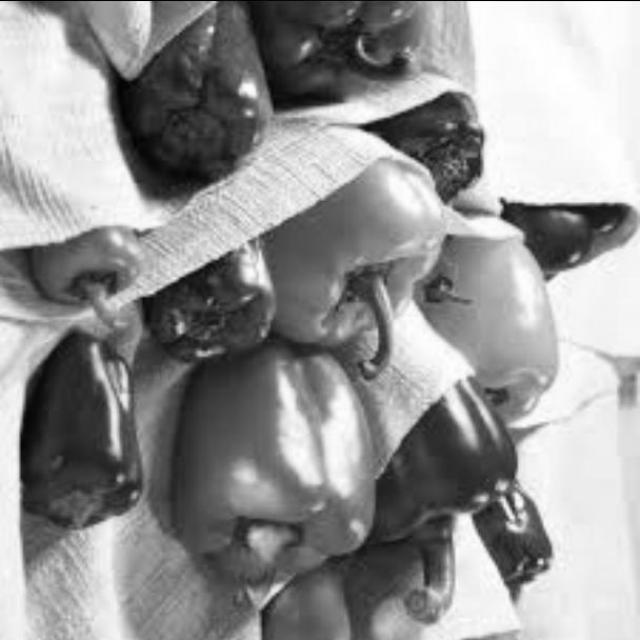ot chuong: (164, 330, 385, 598), (337, 373, 526, 593), (264, 133, 450, 351), (412, 212, 573, 430), (118, 0, 289, 187), (23, 329, 152, 526), (257, 0, 438, 118), (155, 216, 289, 359), (37, 204, 148, 341), (455, 478, 570, 604), (374, 84, 494, 204)
